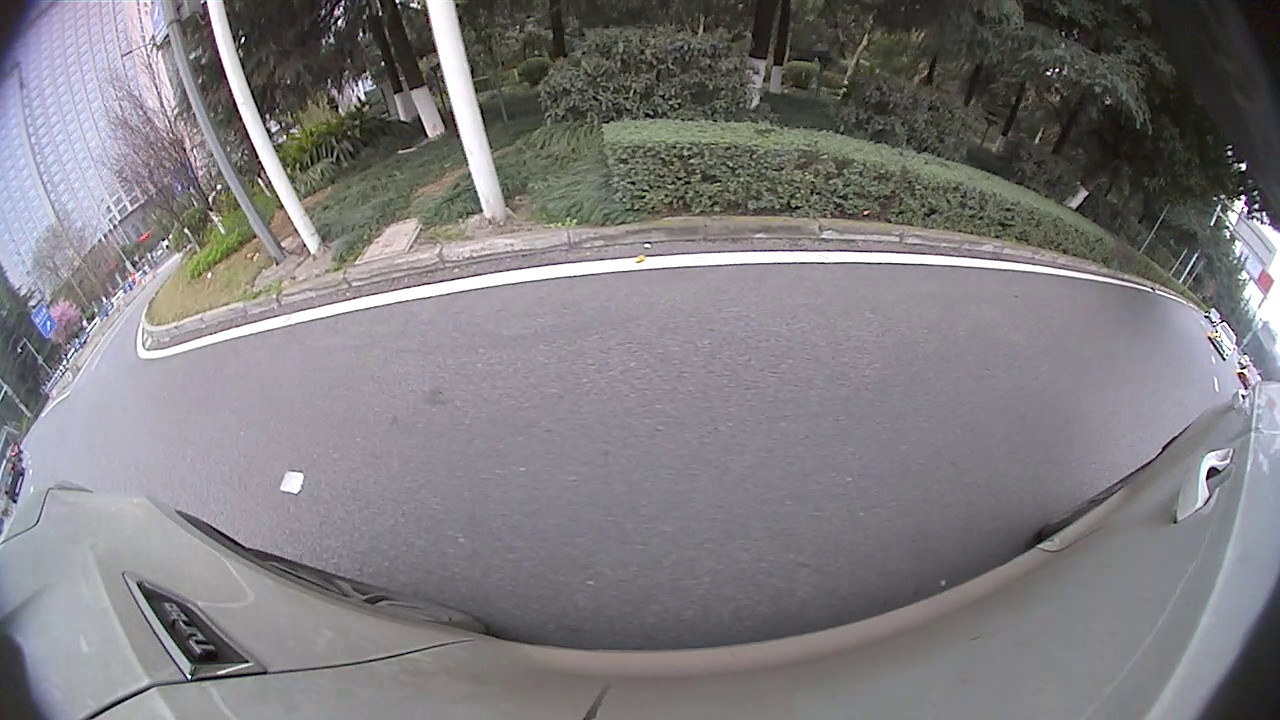bus: (819, 120, 1124, 276)
car: (68, 158, 433, 381), (536, 95, 810, 273), (812, 144, 1112, 300), (1104, 267, 1227, 342), (1193, 297, 1278, 404)
front: (1207, 349, 1256, 412), (392, 202, 429, 264), (802, 188, 831, 242), (1116, 274, 1139, 321)
rear: (179, 269, 275, 371), (930, 226, 978, 296)
